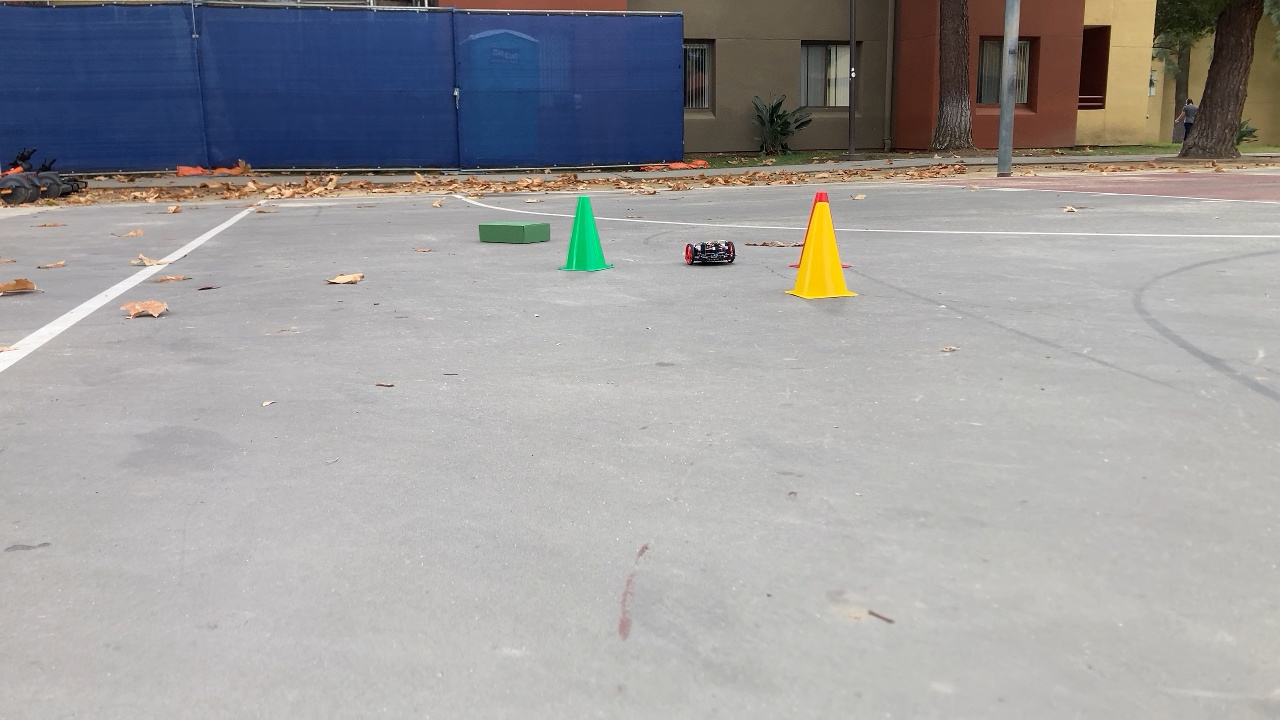green_cone: (559, 191, 614, 274)
robot: (680, 239, 738, 272)
yellow_cone: (789, 200, 862, 305)
